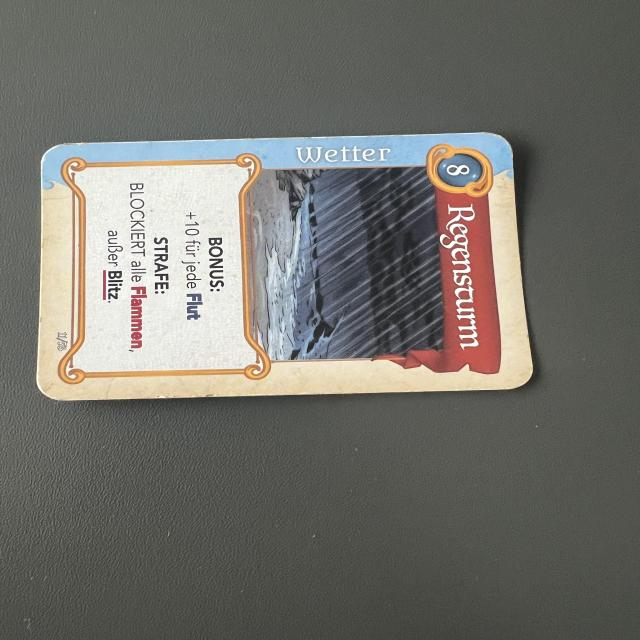Rainstorm: (37, 135, 543, 399)
